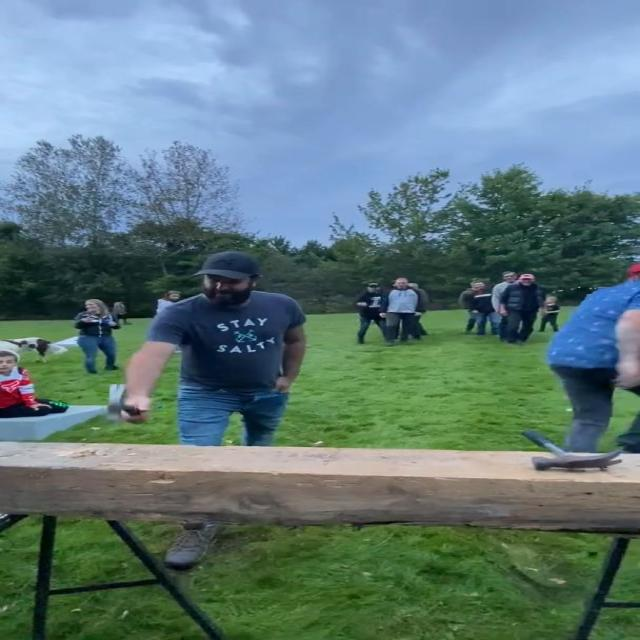hammer: (521, 429, 623, 472), (107, 384, 144, 428)
